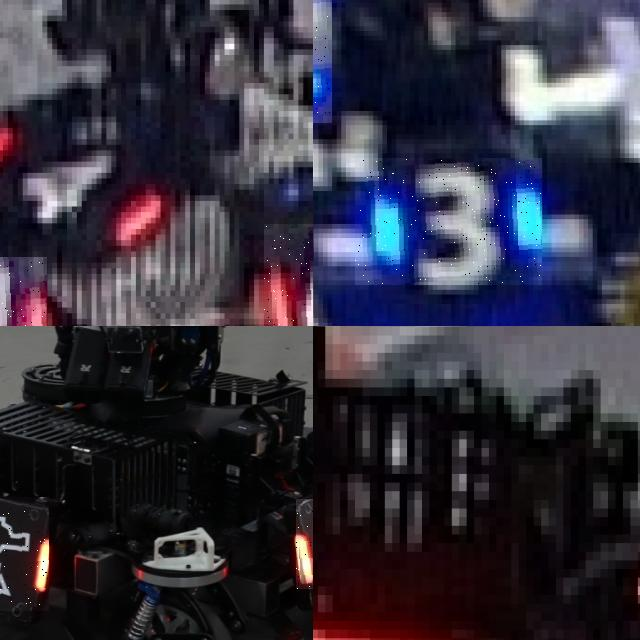B3: (355, 158, 542, 285)
R4: (264, 223, 313, 326)
Rs: (0, 496, 49, 611), (296, 498, 313, 589)
